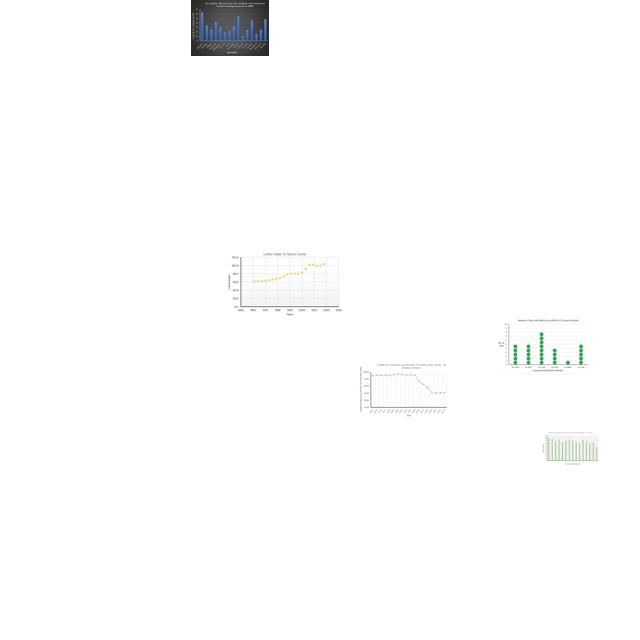Graph: (227, 251, 343, 317), (497, 317, 589, 375), (358, 362, 448, 418), (191, 0, 269, 56), (541, 431, 600, 466)
